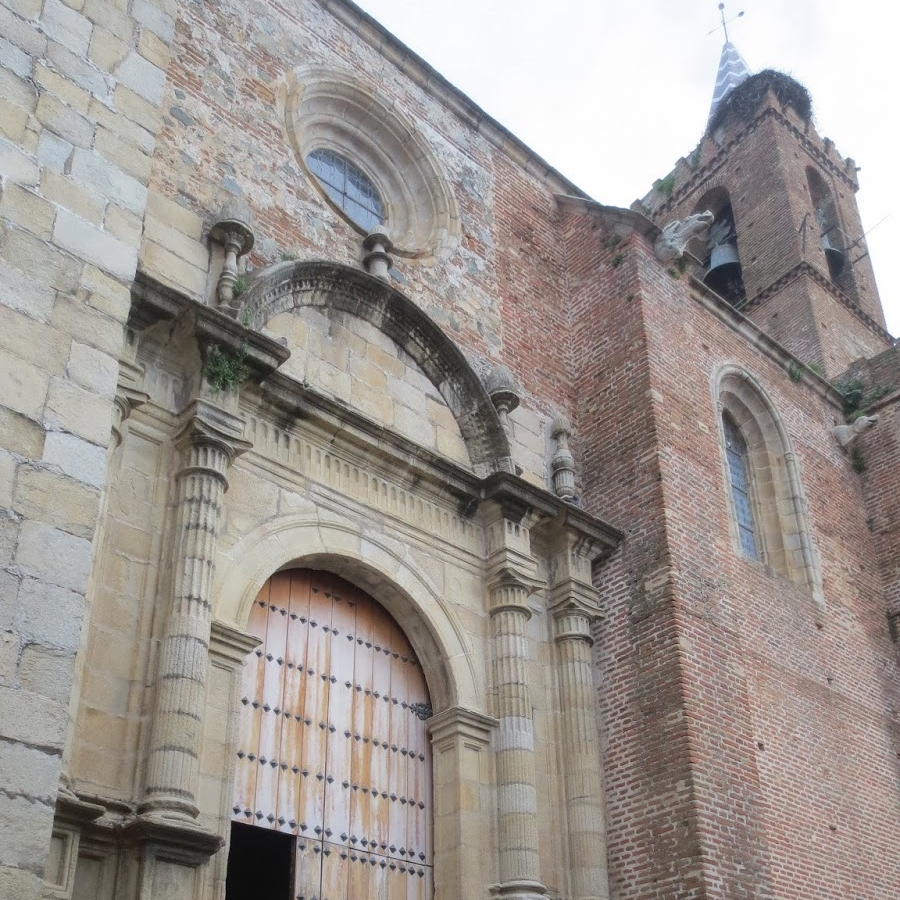arco-medio-punto: (237, 257, 515, 476), (229, 546, 459, 725)
ojo-de-buey: (291, 66, 459, 259)
